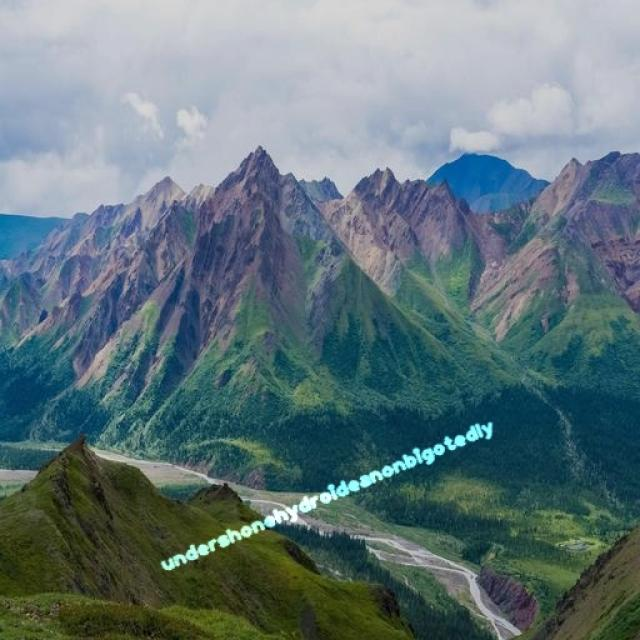watermark: (159, 416, 496, 574)
